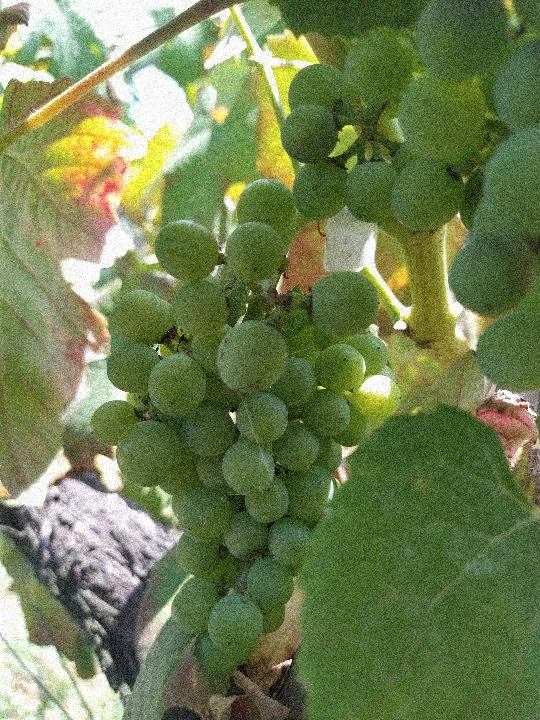grape: (88, 178, 405, 683)
